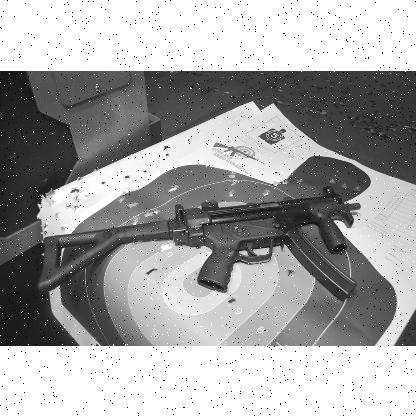gun: (39, 184, 359, 298)
